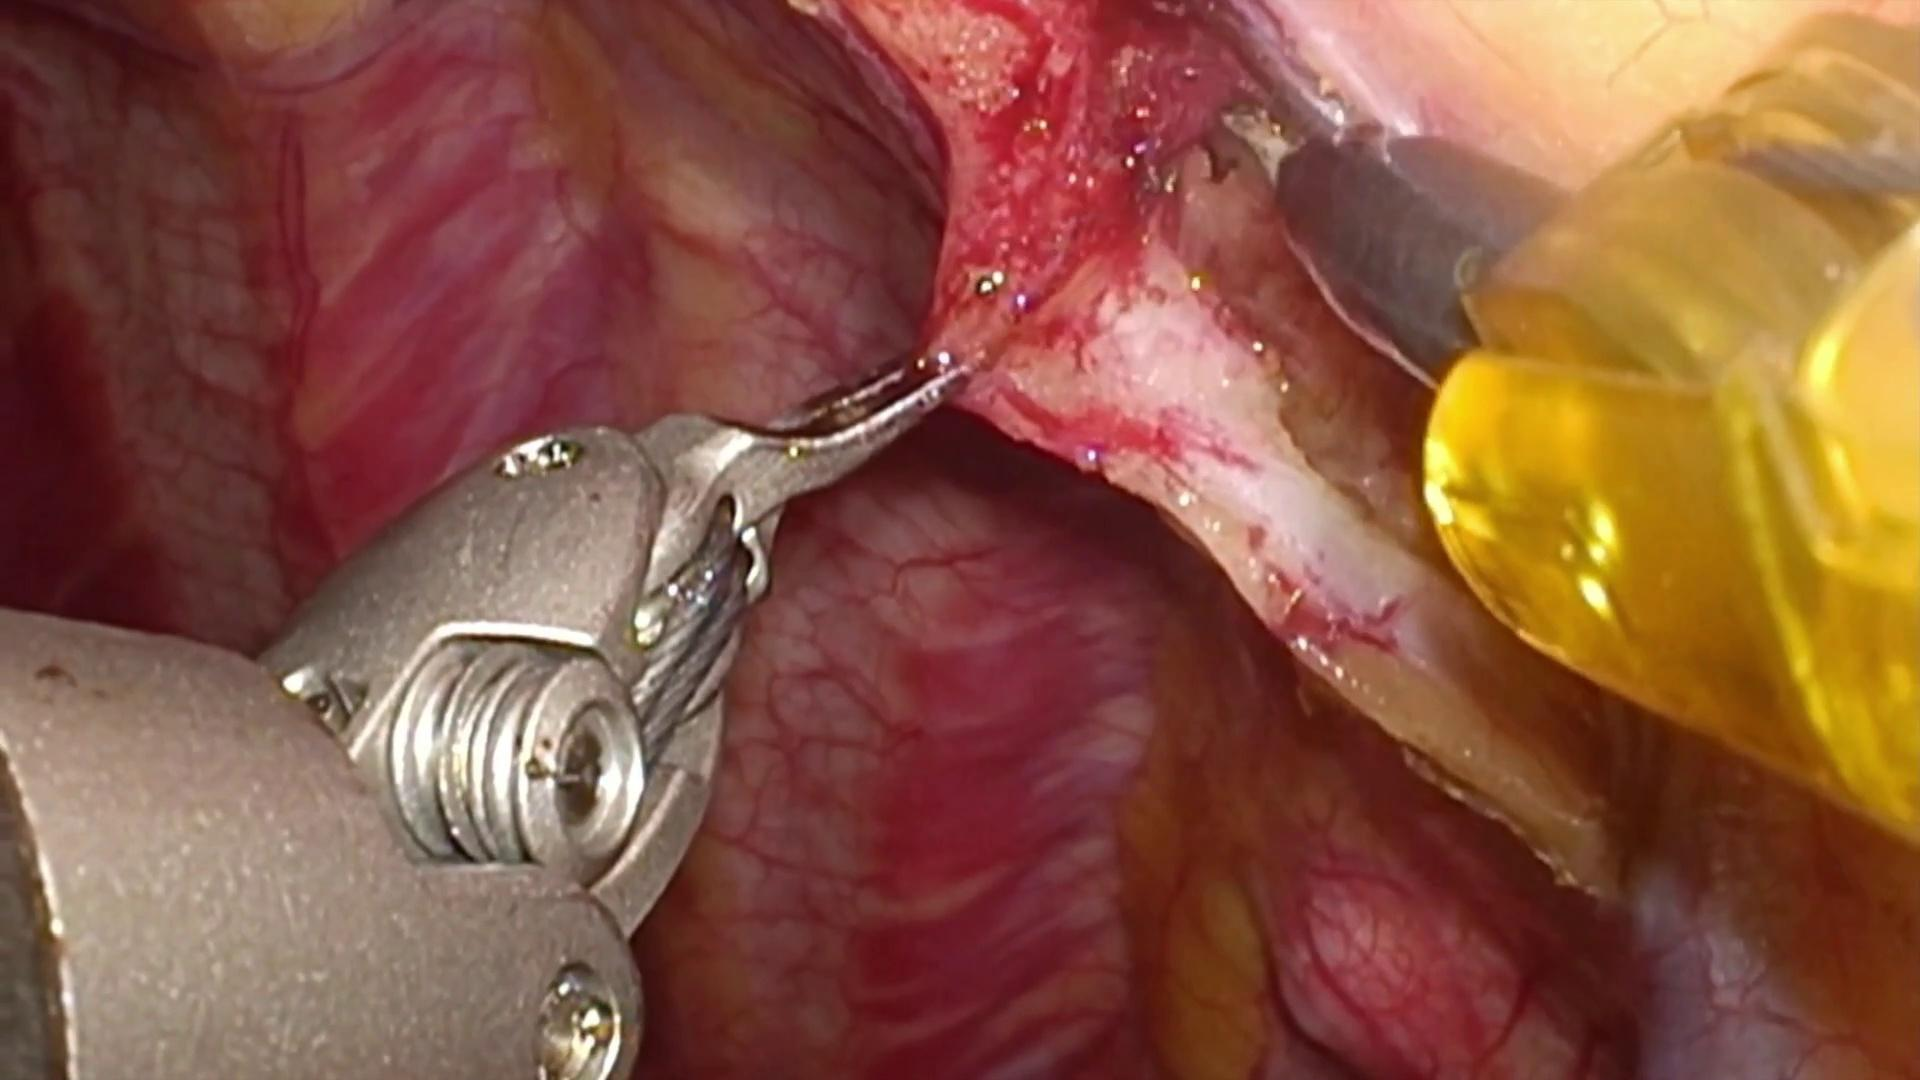Cautery_Spatula: (1211, 88, 1580, 390)
Debakey: (638, 297, 980, 633)
